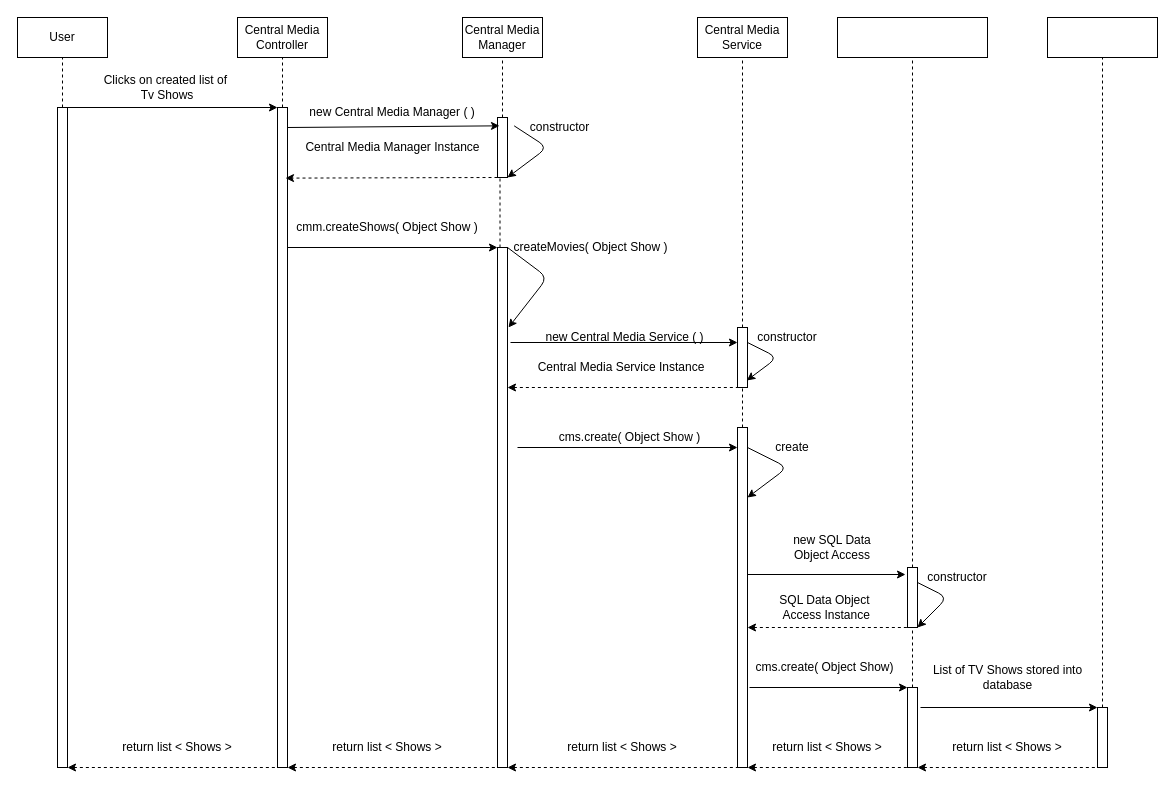
The diagram is 1175 pixels wide and 793 high, and some of its shapes have lost their labels. The shapes that lost their labels are listed below. From the top down, each one's centre as x and y in pixels, then its label:
At (912,37): "SQL Data Access Object".
At (1102,37): "SQL Server".
